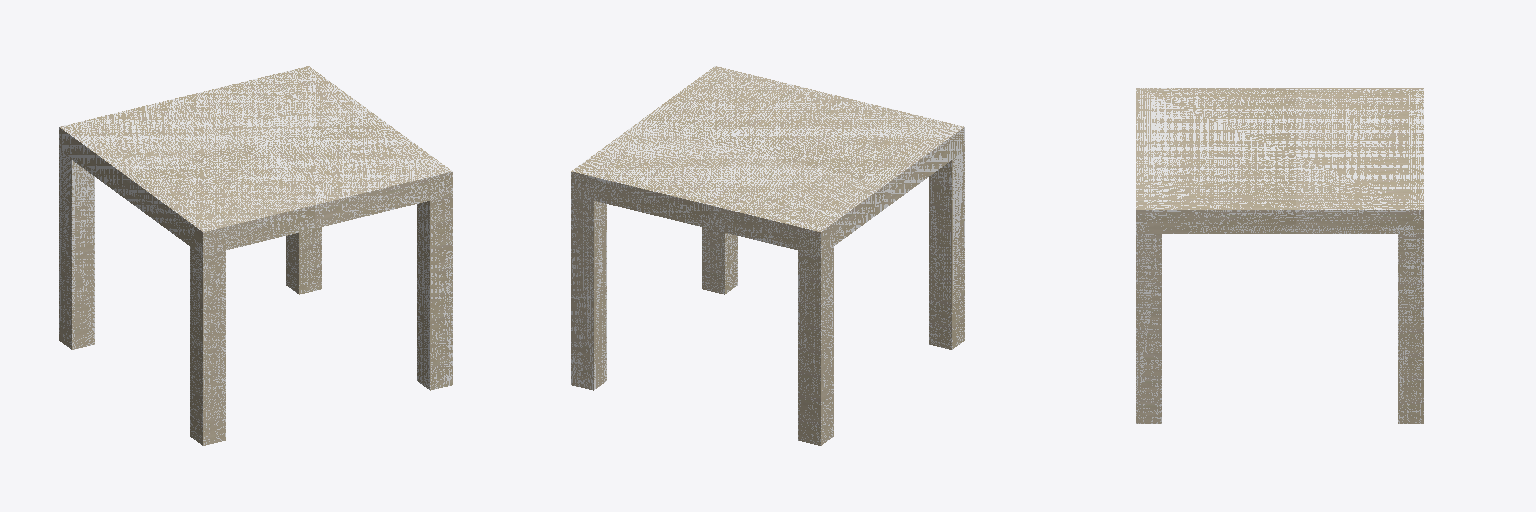
3 renders of one model, left to right at view 1: azimuth 30°, elevation 25°; view 2: azimuth 150°, elevation 25°; view 3: azimuth 270°, elevation 25°, orthographic.
Parts seen in each view (by area): view 1: mesh1_mesh1-geometry; view 2: mesh1_mesh1-geometry; view 3: mesh1_mesh1-geometry.
Boxes of the visible parts, box(x1,y1,x2,y2) form: mesh1_mesh1-geometry: box(59, 66, 452, 445); mesh1_mesh1-geometry: box(571, 66, 964, 445); mesh1_mesh1-geometry: box(1136, 88, 1423, 423).
Bounding box in the file's own units: 0.6121 × 0.5008 × 0.6121.
Materials: 2 (1 with a texture image).